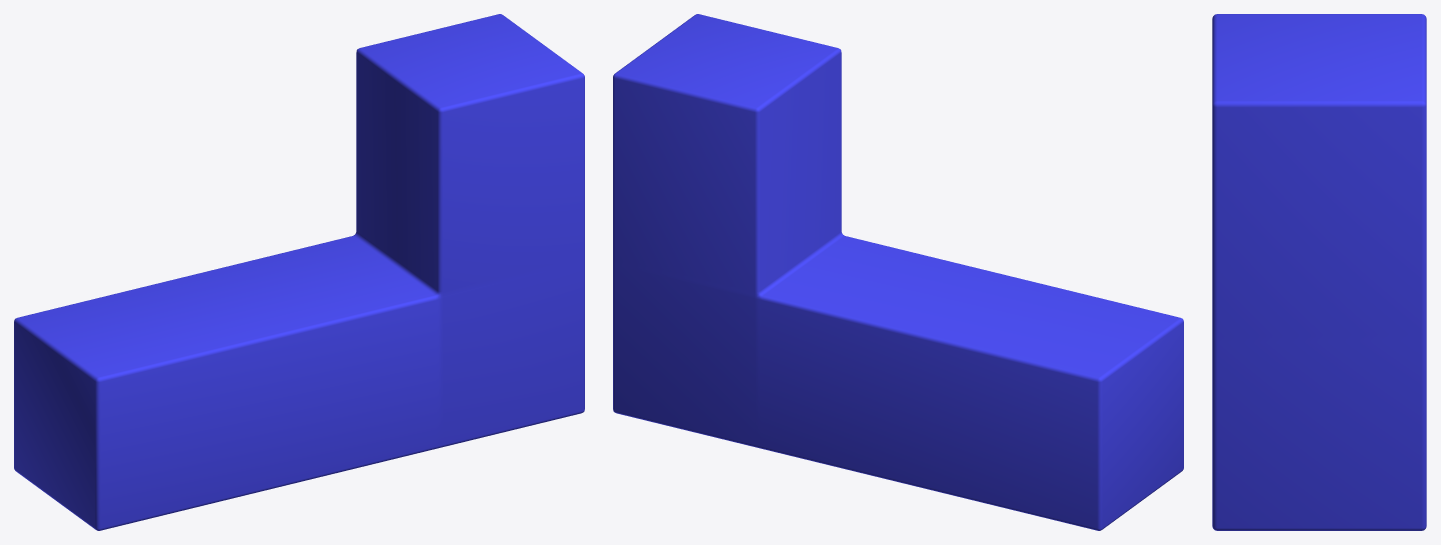
The model's file is blockV2.glb.
3 views of the same model, side by side, from view 1: azimuth 30°, elevation 25°; view 2: azimuth 150°, elevation 25°; view 3: azimuth 270°, elevation 25° (orthographic). The views are drawn at different scales.
Parts seen in each view (by area): view 1: Cube; view 2: Cube; view 3: Cube.
Part boxes in pixels (x1,y1,x2,y2): Cube: [14, 14, 584, 530]; Cube: [613, 14, 1183, 530]; Cube: [1212, 14, 1426, 530].
Size of the model in its own units: 6.67 by 4.42 by 2.
